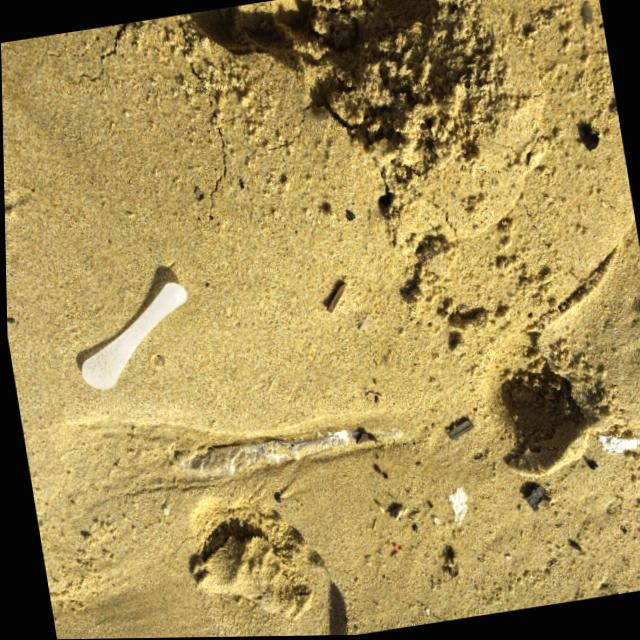Plastic: (55, 269, 210, 406), (154, 424, 358, 491)
